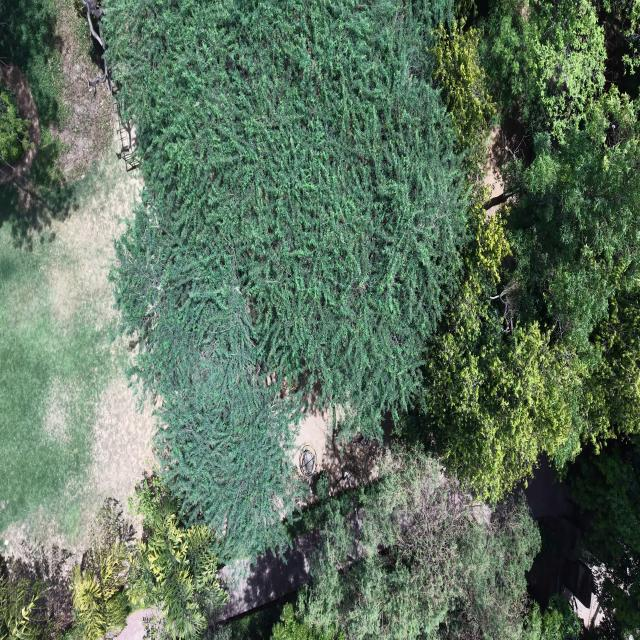DRY_AREA: (0, 0, 155, 554), (0, 0, 154, 554), (0, 148, 154, 554), (52, 0, 113, 179), (292, 406, 382, 492), (292, 406, 380, 491), (0, 63, 40, 183), (484, 127, 504, 199)
VEGETATION_TREE: (72, 0, 639, 639), (105, 0, 639, 559), (104, 0, 466, 556), (407, 3, 639, 499), (0, 449, 579, 639), (485, 3, 639, 637), (423, 89, 639, 498), (403, 30, 585, 501), (403, 25, 581, 501), (0, 0, 150, 546), (271, 449, 579, 639), (0, 157, 150, 547), (484, 3, 639, 379), (299, 450, 539, 638), (513, 88, 639, 445), (0, 476, 227, 639), (510, 88, 639, 357), (420, 290, 580, 501), (0, 0, 111, 247), (0, 499, 133, 639), (483, 0, 606, 141), (127, 474, 228, 639), (569, 435, 639, 637), (0, 0, 66, 201), (129, 504, 227, 638), (432, 19, 495, 179), (71, 499, 134, 639), (585, 292, 639, 448), (0, 0, 64, 128), (0, 542, 73, 639), (208, 594, 312, 639), (596, 0, 639, 95), (0, 575, 47, 639), (271, 604, 344, 639), (0, 86, 30, 165), (271, 603, 334, 639), (540, 594, 581, 639)
